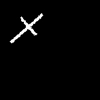single_crochet: (10, 14, 42, 42)
